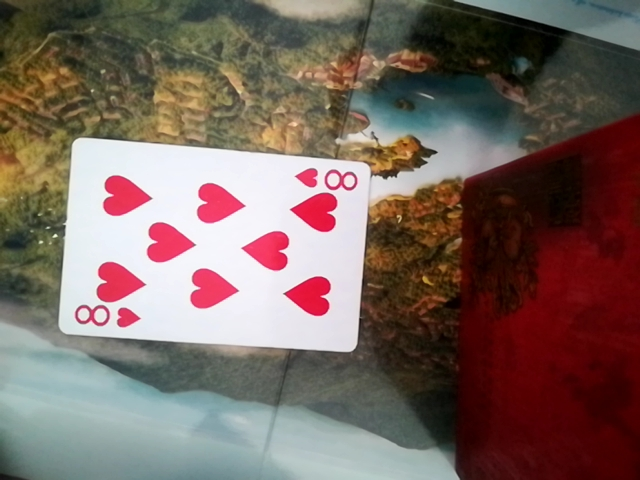hx 8: (58, 140, 365, 352)
